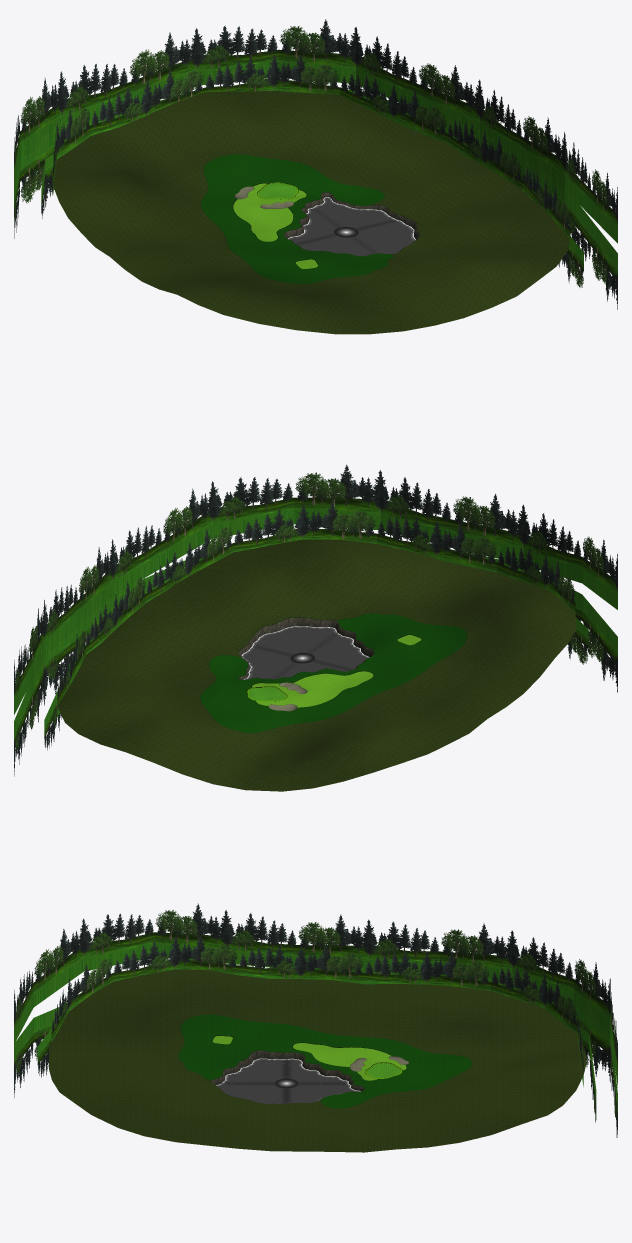
Rendered from glf_course_fc3__glf_course_fc3.glb.
3 renders of one model, top to bottom at view 1: azimuth 30°, elevation 25°; view 2: azimuth 150°, elevation 25°; view 3: azimuth 270°, elevation 25°, orthographic. The views are drawn at different scales.
Visible parts, largest first — view 1: polygon27, polygon19, polygon28, polygon30, polygon23, polygon25; view 2: polygon27, polygon19, polygon28, polygon30, polygon23, polygon25, polygon7; view 3: polygon27, polygon19, polygon28, polygon30, polygon23, polygon25, polygon7.
Part boxes in pixels (x1,y1,x2,y2): polygon27: (51,90,569,334); polygon19: (14,19,617,309); polygon28: (201,154,393,283); polygon30: (289,197,415,256); polygon23: (233,183,318,269); polygon25: (284,192,419,251); polygon27: (57,539,576,791); polygon19: (14,464,617,776); polygon28: (200,613,467,732); polygon30: (242,626,368,679); polygon23: (251,635,421,707); polygon25: (238,617,374,679); polygon7: (199,613,467,733); polygon27: (49,969,586,1152); polygon19: (14,903,617,1137); polygon28: (178,1014,471,1108); polygon30: (216,1059,359,1104); polygon23: (212,1036,406,1080); polygon25: (212,1050,364,1099); polygon7: (178,1014,472,1108).
Size of the model in its own units: 3663 by 1185 by 4580.
15 materials, 14 textured.
